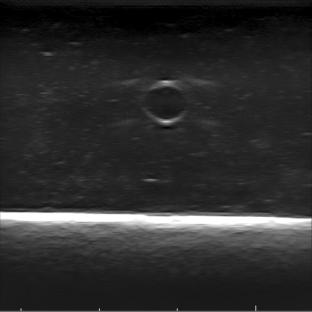vessel: (140, 79, 189, 125)
